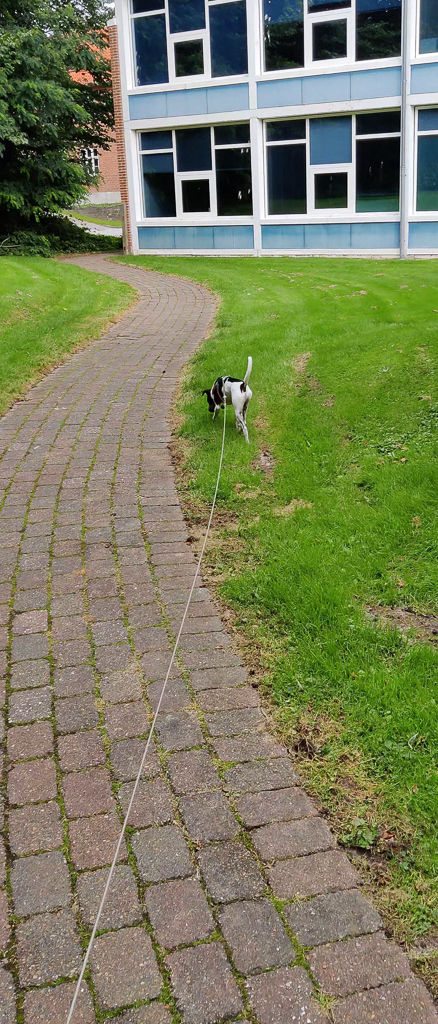Dog: (193, 345, 264, 455)
